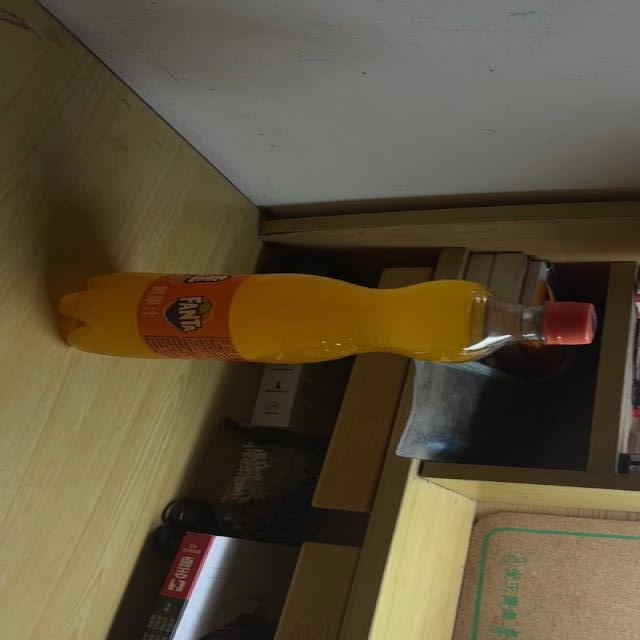Fanta: (50, 271, 600, 366)
